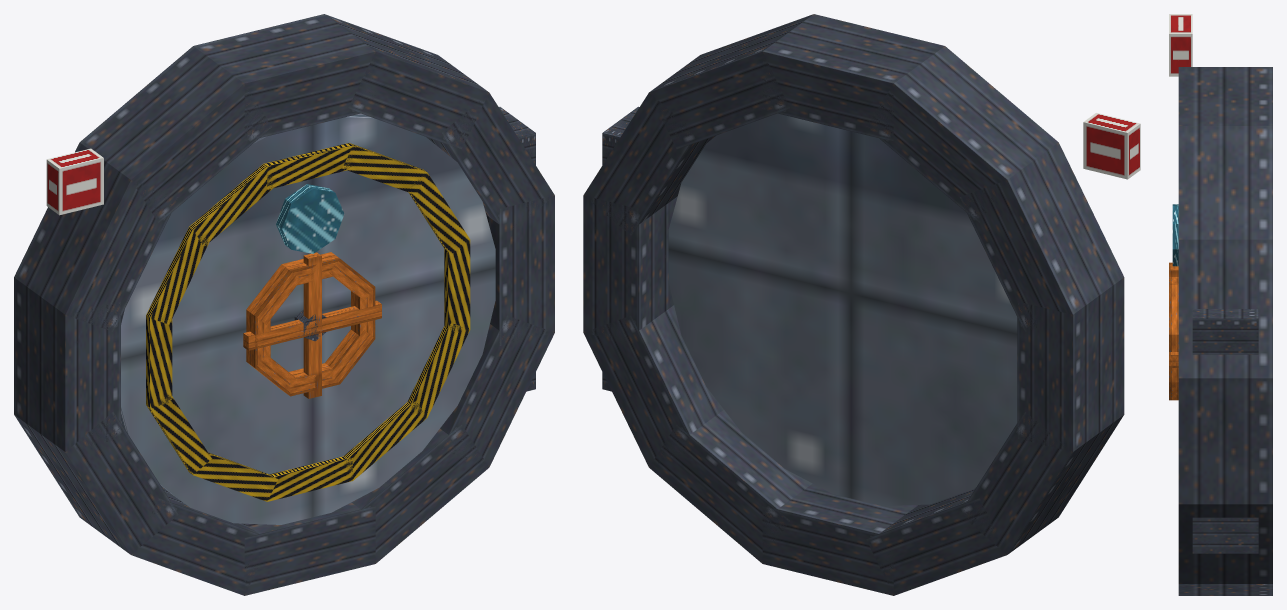
File: airlock_hatch_round.fbx
3 views of the same model, side by side, from view 1: azimuth 30°, elevation 25°; view 2: azimuth 150°, elevation 25°; view 3: azimuth 270°, elevation 25° (orthographic). The views are drawn at different scales.
Visible parts, largest first — view 1: airlock_hatch_round; view 2: airlock_hatch_round; view 3: airlock_hatch_round.
Part boxes in pixels (left/top/right/bottom): airlock_hatch_round: left=14, top=14, right=554, bottom=595; airlock_hatch_round: left=583, top=14, right=1140, bottom=595; airlock_hatch_round: left=1169, top=14, right=1272, bottom=595.
Bounding box in the file's own units: 2.25 × 2.2 × 0.44.
Materials: 1 (1 with a texture image).
